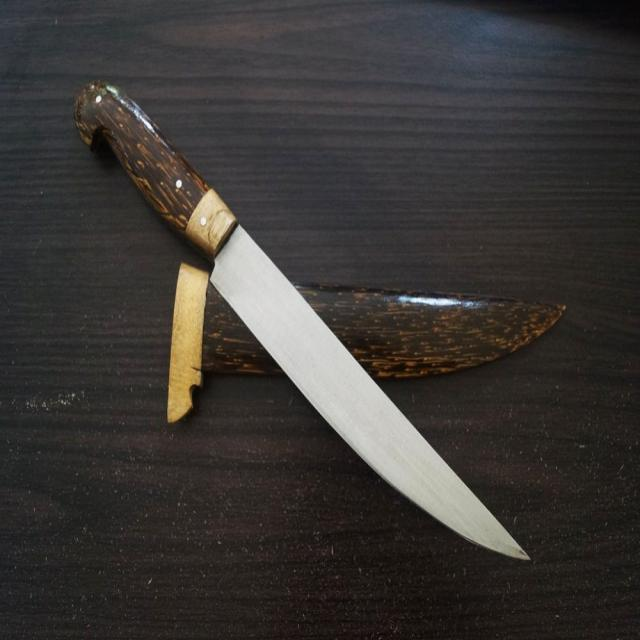Pisau: (60, 55, 541, 572)
